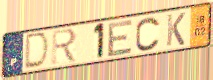1: (92, 21, 106, 60)
C: (134, 16, 162, 52)
D: (23, 31, 51, 71)
E: (106, 18, 134, 59)
K: (165, 11, 187, 48)
R: (51, 27, 79, 67)
